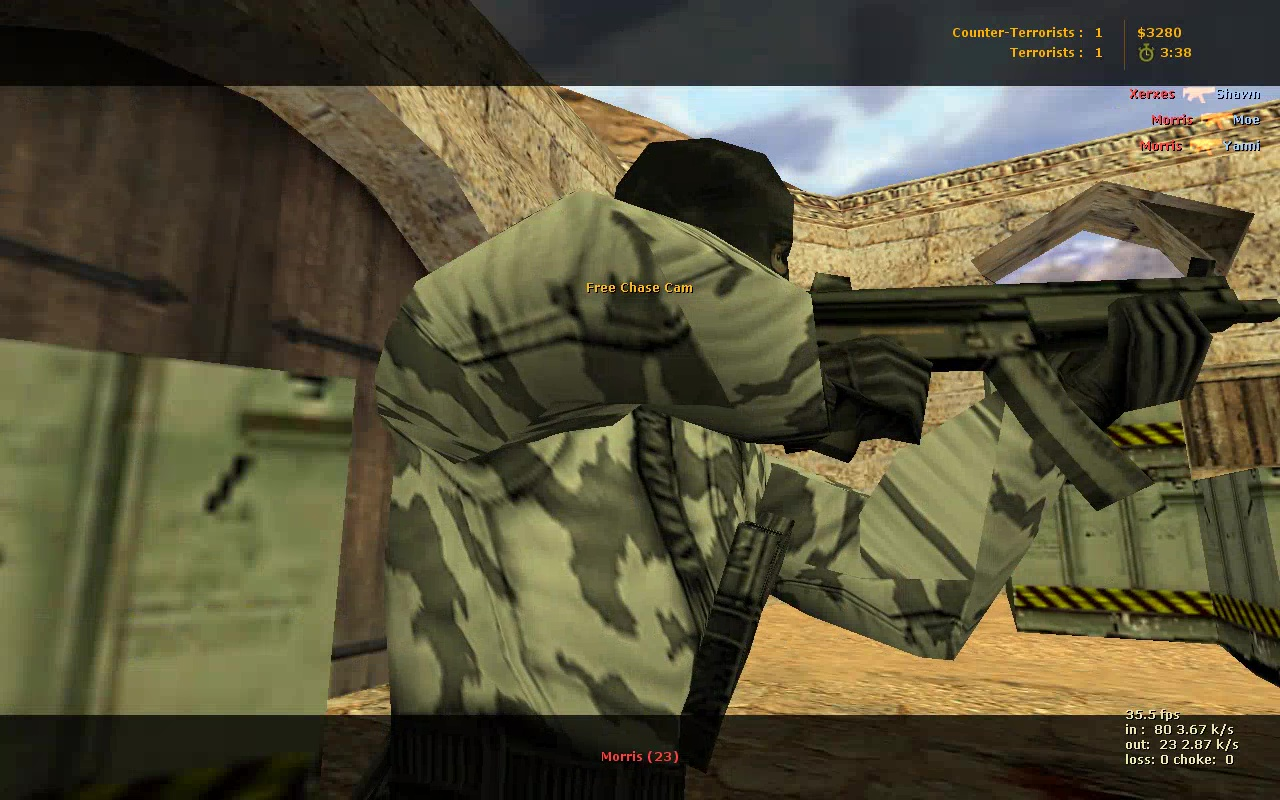terr2: (367, 130, 1196, 708)
